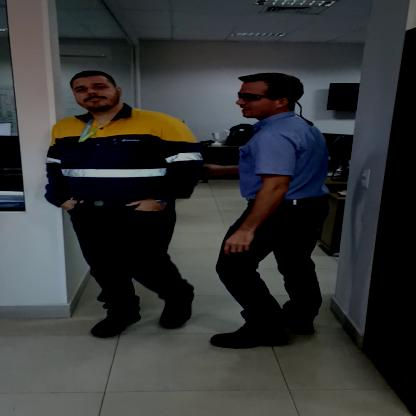Operacional: (46, 109, 208, 208)
